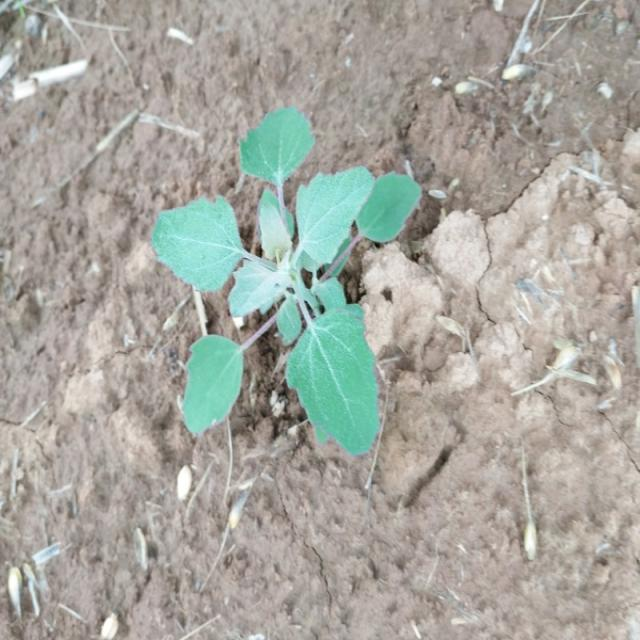goosefoots: (145, 85, 416, 497)
